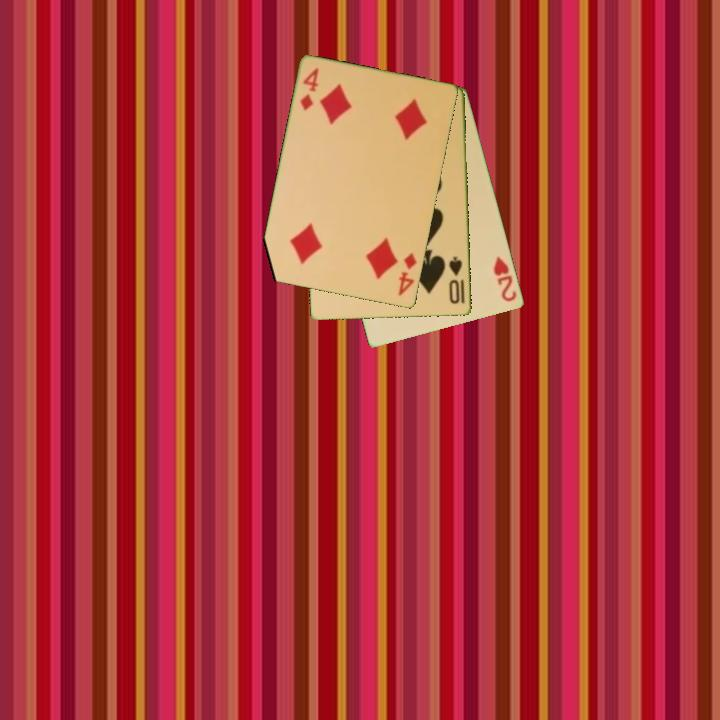10s: (446, 253, 465, 307)
2h: (490, 253, 520, 305)
4d: (395, 250, 420, 299), (297, 65, 322, 114)
